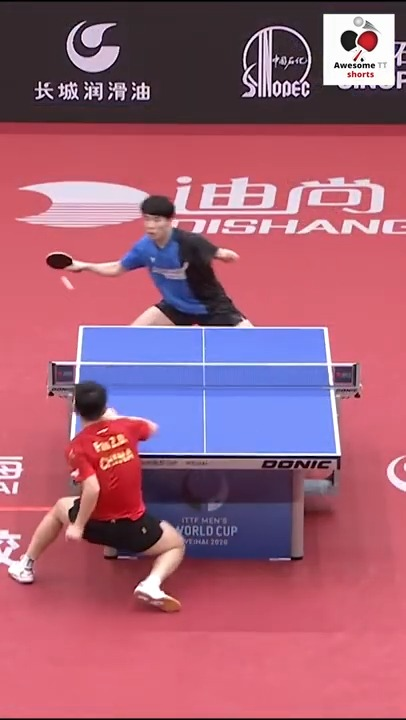Ball: (63, 278, 78, 293)
